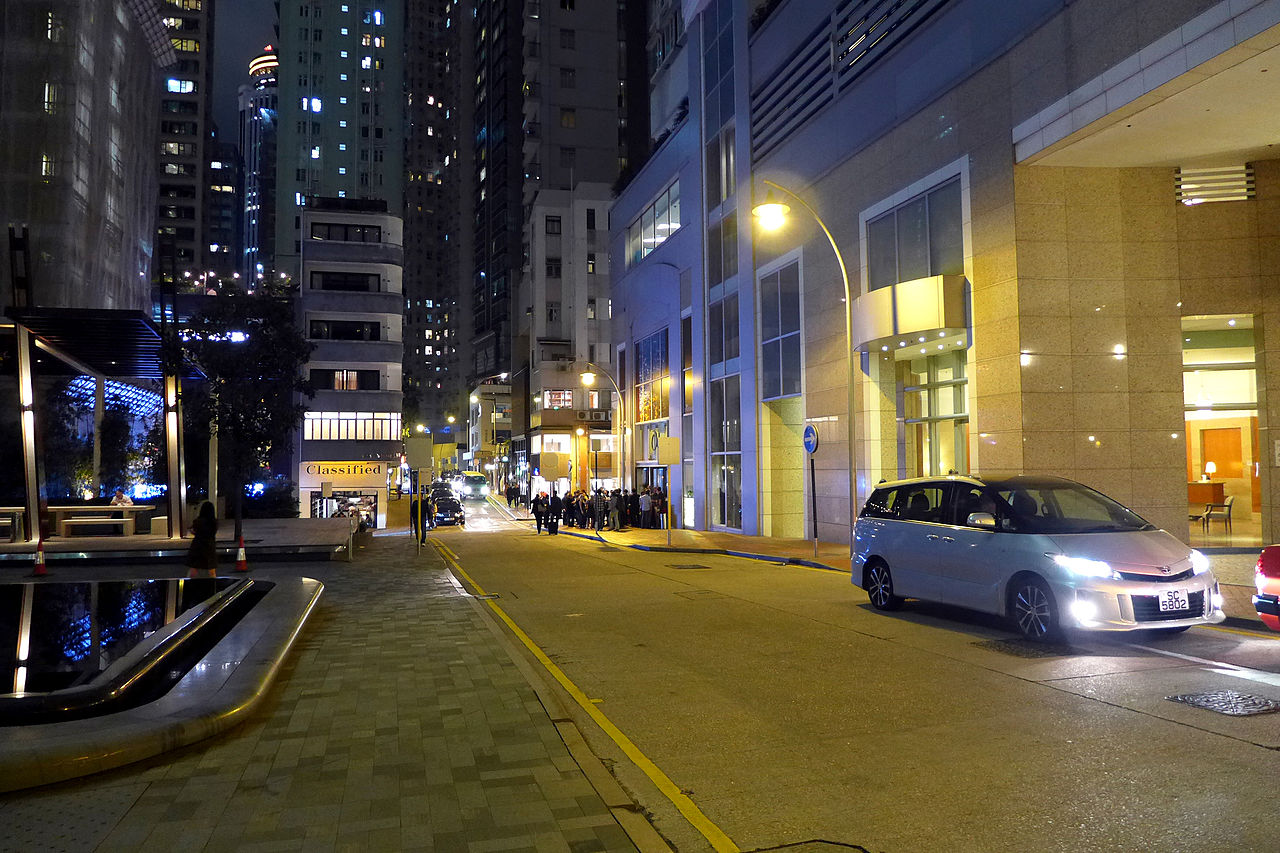Turn Right: (801, 425, 819, 453)
